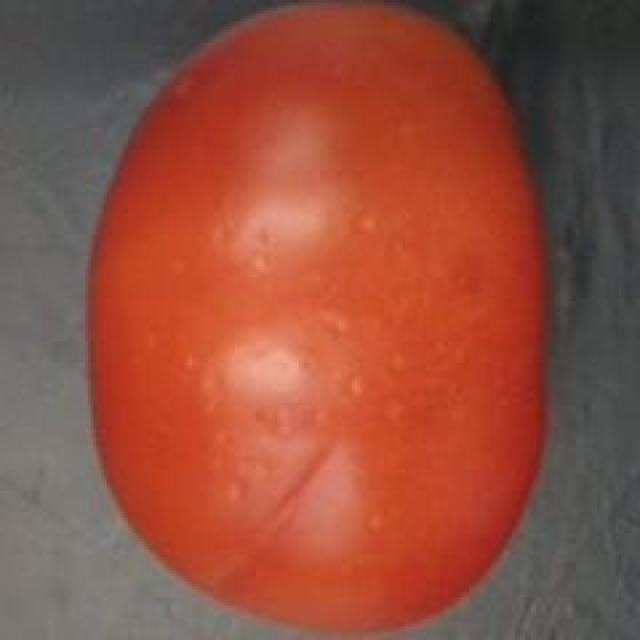ripe tomato: (75, 0, 562, 640)
